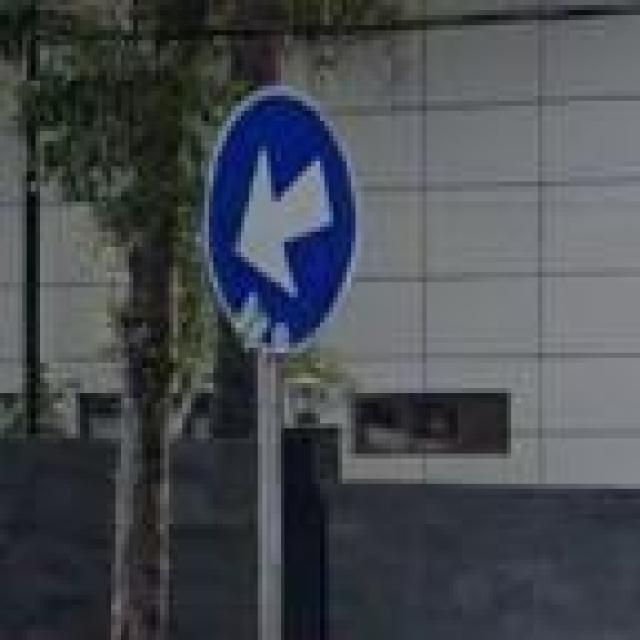traffic sign: (218, 91, 356, 358)
